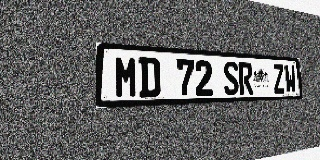2: (195, 60, 213, 96)
7: (176, 59, 195, 96)
D: (139, 57, 161, 98)
M: (114, 55, 138, 98)
R: (238, 62, 253, 95)
S: (223, 61, 239, 95)
W: (284, 65, 297, 93)
Z: (272, 64, 286, 94)
